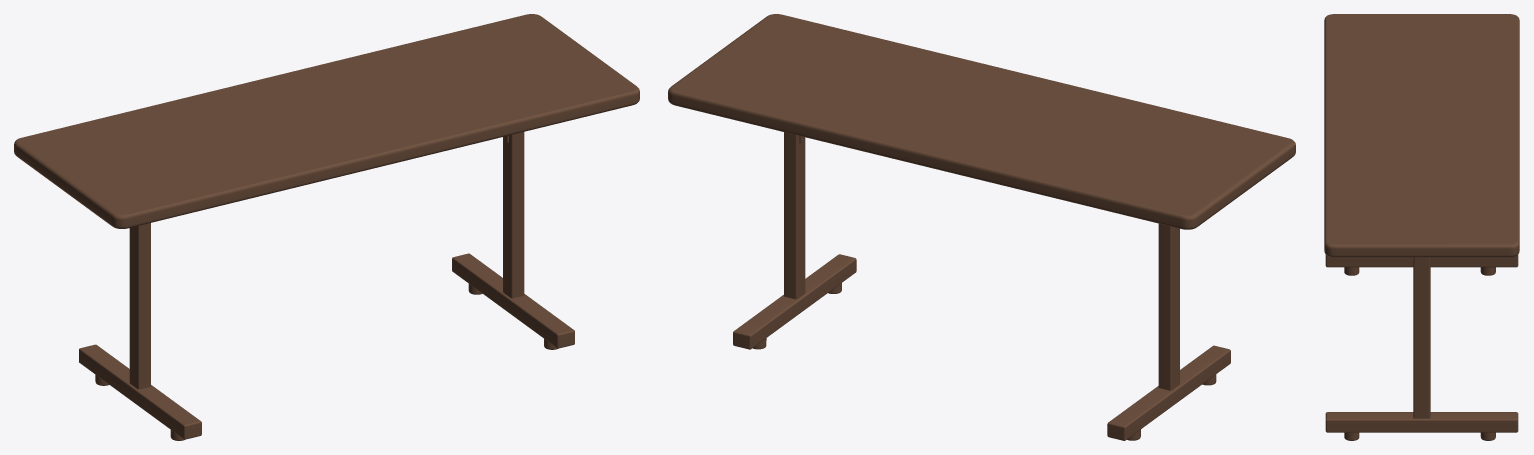
Rendered from Table.fbx.
3 renders of one model, left to right at view 1: azimuth 30°, elevation 25°; view 2: azimuth 150°, elevation 25°; view 3: azimuth 270°, elevation 25°, orthographic. The views are drawn at different scales.
Parts seen in each view (by area): view 1: node_id5; view 2: node_id5; view 3: node_id5.
Part boxes in pixels (x1=…): node_id5: x1=14, y1=14, x2=639, y2=440; node_id5: x1=668, y1=14, x2=1295, y2=440; node_id5: x1=1324, y1=14, x2=1519, y2=440.
Size of the model in its own units: 0.512 by 0.232 by 0.1812.
Materials: 1 (1 with a texture image).
